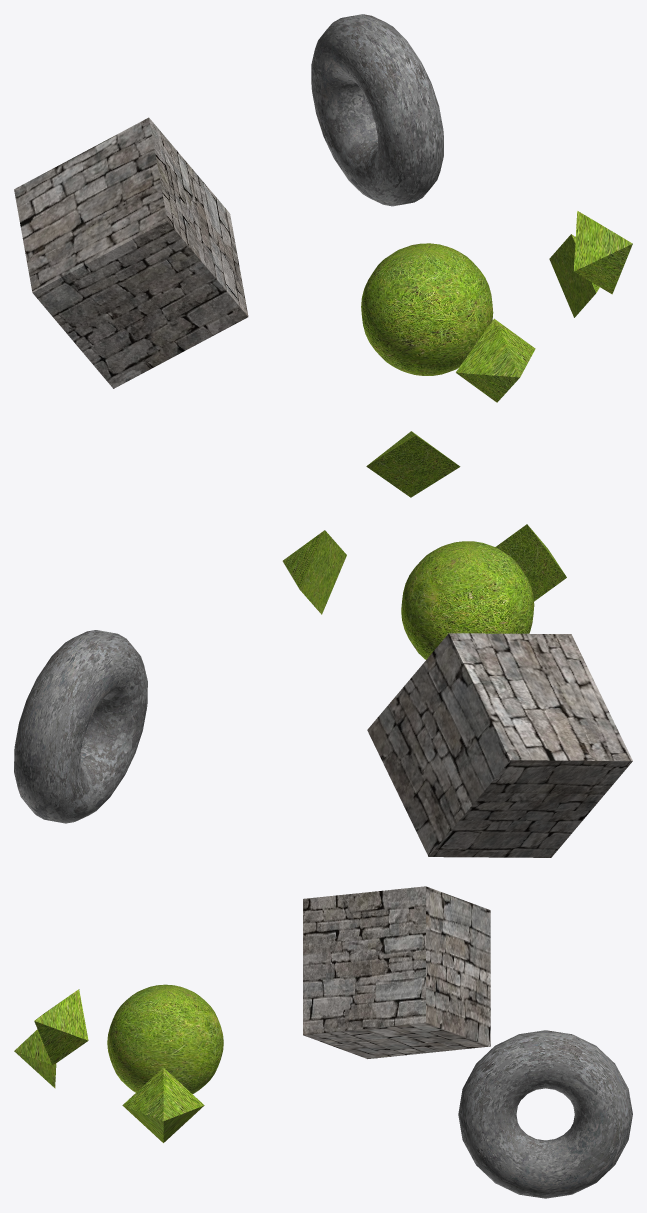
The model's file is primitives_with_parent2.fbx.
The picture shows the model from 3 angles, top to bottom: view 1: azimuth 30°, elevation 25°; view 2: azimuth 150°, elevation 25°; view 3: azimuth 270°, elevation 25°; orthographic projection. The views are drawn at different scales.
Visible parts, largest first — view 1: pCube1, pTorus1, pSphere1, pPyramid2, pPyramid3, pPyramid1; view 2: pCube1, pTorus1, pSphere1, pPyramid3, pPyramid1, pPyramid2; view 3: pCube1, pTorus1, pSphere1, pPyramid1, pPyramid3, pPyramid2.
Part boxes in pixels (box(x1,y1,x2,y2)): pCube1: box(14, 117, 248, 388); pTorus1: box(311, 14, 443, 206); pSphere1: box(361, 243, 493, 375); pPyramid2: box(456, 318, 535, 402); pPyramid3: box(573, 211, 632, 294); pPyramid1: box(549, 234, 599, 317); pCube1: box(367, 633, 632, 857); pTorus1: box(14, 630, 147, 823); pSphere1: box(401, 541, 534, 659); pPyramid3: box(366, 431, 460, 497); pPyramid1: box(282, 530, 346, 614); pPyramid2: box(495, 524, 566, 601); pCube1: box(303, 886, 490, 1058); pTorus1: box(458, 1030, 632, 1198); pSphere1: box(107, 984, 223, 1093); pPyramid1: box(122, 1067, 204, 1142); pPyramid3: box(34, 989, 88, 1065); pPyramid2: box(14, 1029, 56, 1088).
Size of the model in its own units: 8.37 by 3.83 by 10.63.
3 materials, 3 textured.
